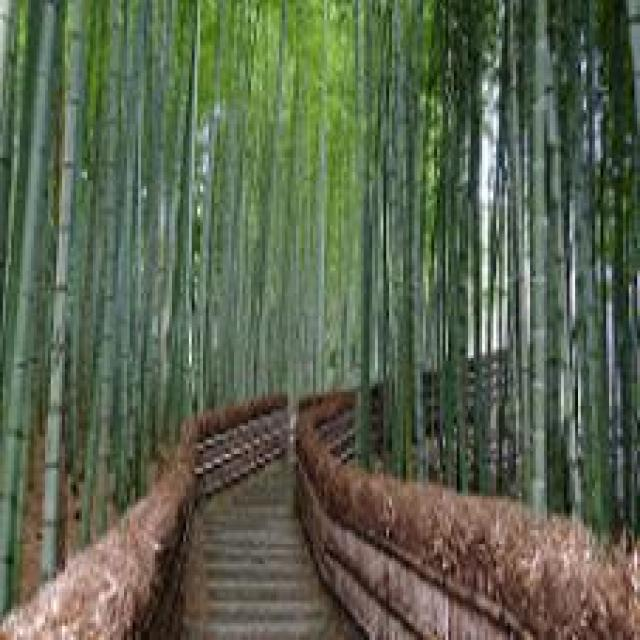upstair: (168, 475, 371, 635)
